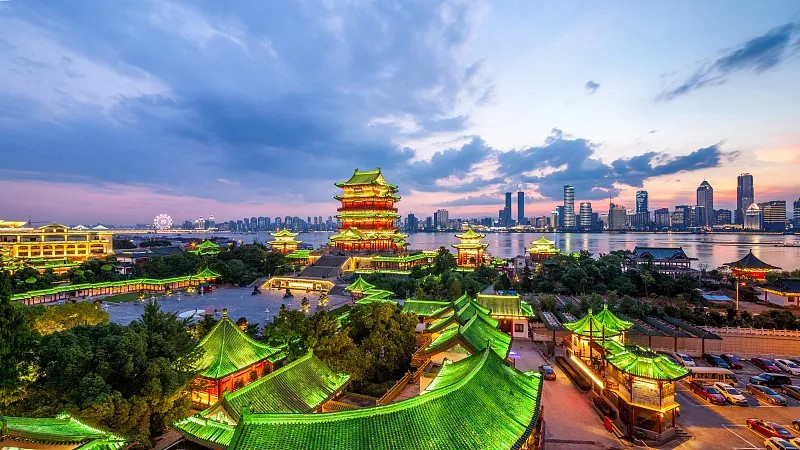Teng: (327, 168, 412, 255)
